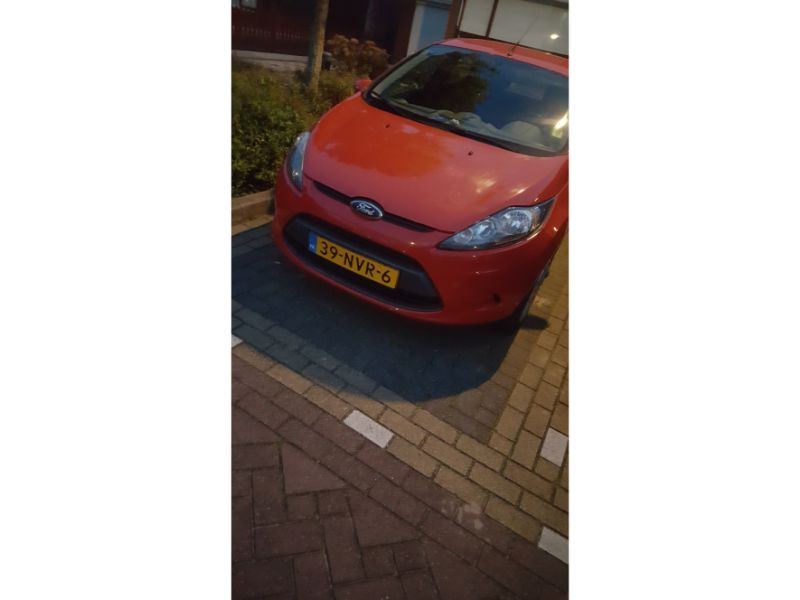kenteken: (305, 232, 399, 293)
